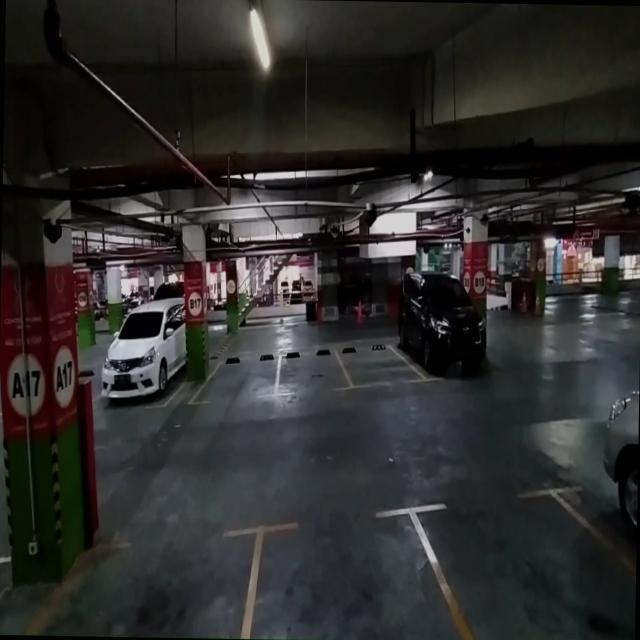empty: (428, 485, 615, 640), (246, 501, 437, 640), (195, 350, 278, 407), (274, 348, 350, 399), (340, 349, 422, 395)
occupied: (95, 310, 187, 409), (401, 297, 485, 384)
